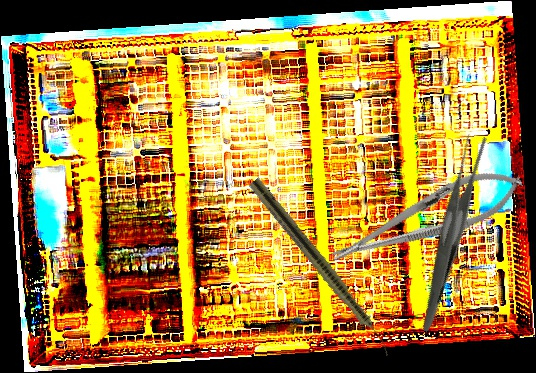Dressing Forceps: (365, 128, 534, 333)
Handpiece: (246, 176, 398, 359)
Needle Holder: (323, 156, 530, 280)
